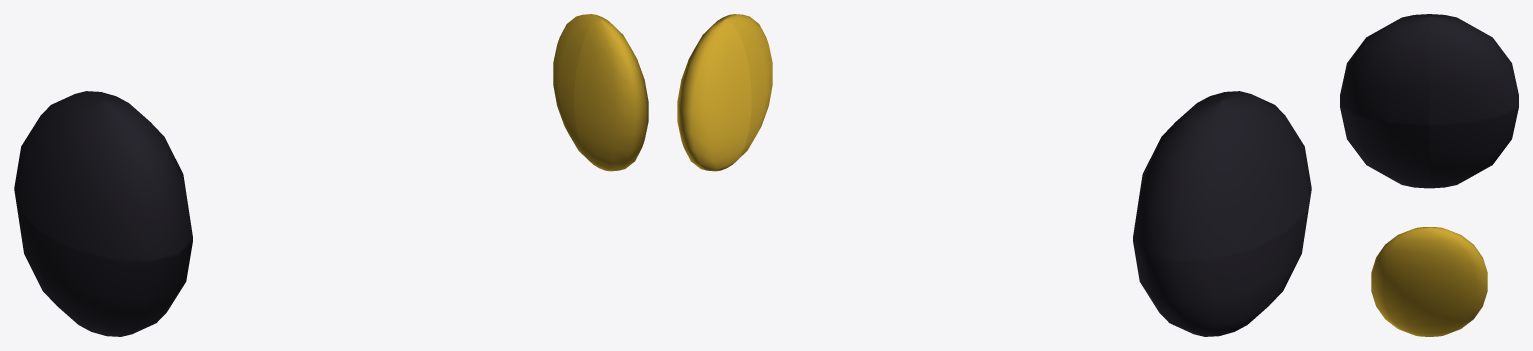
File: watch-gold-v1.glb
The picture shows the model from 3 angles, left to right: view 1: azimuth 30°, elevation 25°; view 2: azimuth 150°, elevation 25°; view 3: azimuth 270°, elevation 25°; orthographic projection. The views are drawn at different scales.
Visible parts, largest first — view 1: watch_strap, watch_face; view 2: watch_strap, watch_face; view 3: watch_strap, watch_face.
Boxes of the visible parts, <box> form: watch_strap: <box>14,91,192,336</box>; watch_face: <box>553,14,648,171</box>; watch_strap: <box>1133,91,1311,336</box>; watch_face: <box>677,14,772,171</box>; watch_strap: <box>1340,14,1518,188</box>; watch_face: <box>1371,227,1487,336</box>.
Bounding box in the file's own units: 0.177 × 0.065 × 0.0624.
